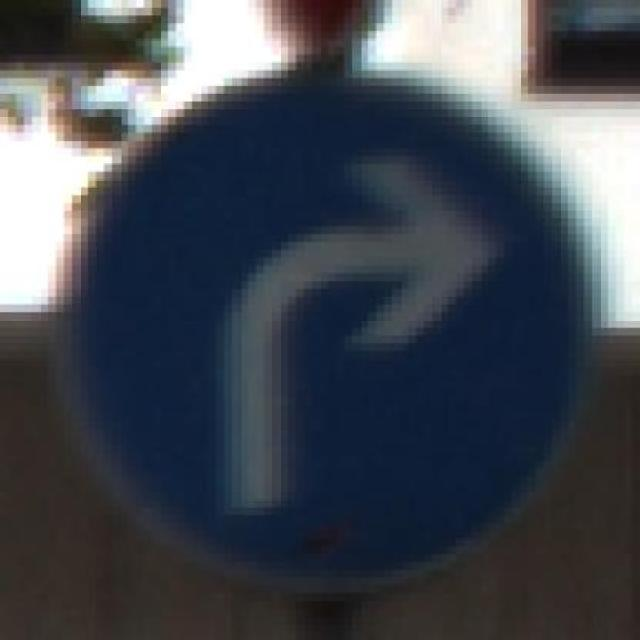Turn right ahead: (48, 62, 600, 601)
